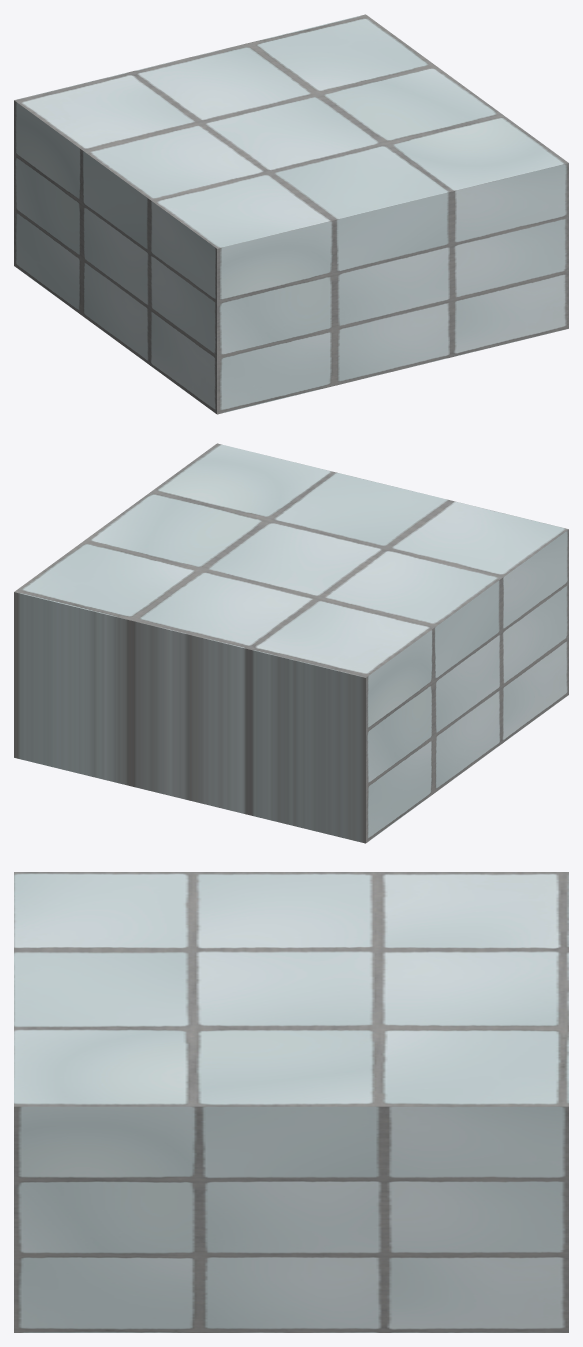
File: TESTLevel_04.glb
3 views of the same model, one above another, from view 1: azimuth 30°, elevation 25°; view 2: azimuth 150°, elevation 25°; view 3: azimuth 270°, elevation 25° (orthographic). The views are drawn at different scales.
Visible parts, largest first — view 1: TESTLevel.004; view 2: TESTLevel.004; view 3: TESTLevel.004.
Boxes of the visible parts, box(x1,y1,x2,y2) form: TESTLevel.004: box(14, 14, 568, 414); TESTLevel.004: box(14, 443, 568, 843); TESTLevel.004: box(14, 872, 568, 1332).
Bounding box in the file's own units: 10 × 4.5 × 10.
Materials: 1 (1 with a texture image).
